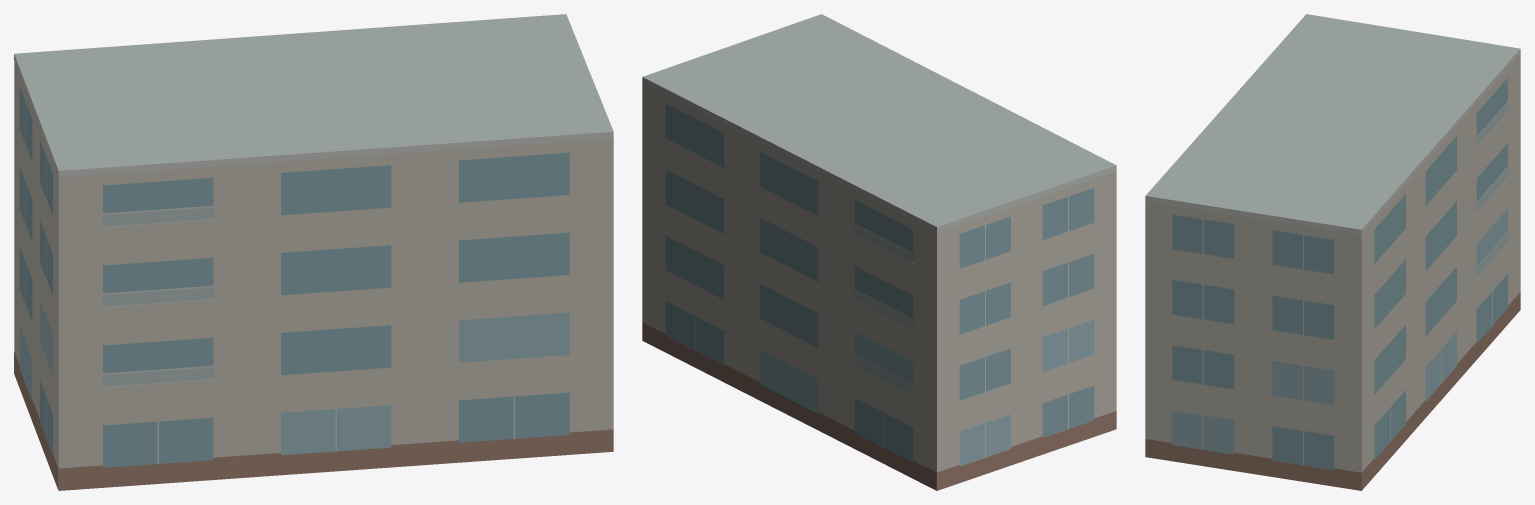
The model's file is survey-upis-32888554.glb.
3 views of the same model, side by side, from view 1: azimuth 30°, elevation 25°; view 2: azimuth 150°, elevation 25°; view 3: azimuth 270°, elevation 25° (orthographic). The views are drawn at different scales.
Parts seen in each view (by area): view 1: survey-upis-32888554.tmp; view 2: survey-upis-32888554.tmp; view 3: survey-upis-32888554.tmp.
Part boxes in pixels (x1,y1,x2,y2): survey-upis-32888554.tmp: (14,14,613,490); survey-upis-32888554.tmp: (642,14,1116,490); survey-upis-32888554.tmp: (1145,14,1520,490).
Bounding box in the file's own units: 20.74 × 11.7 × 15.25.
